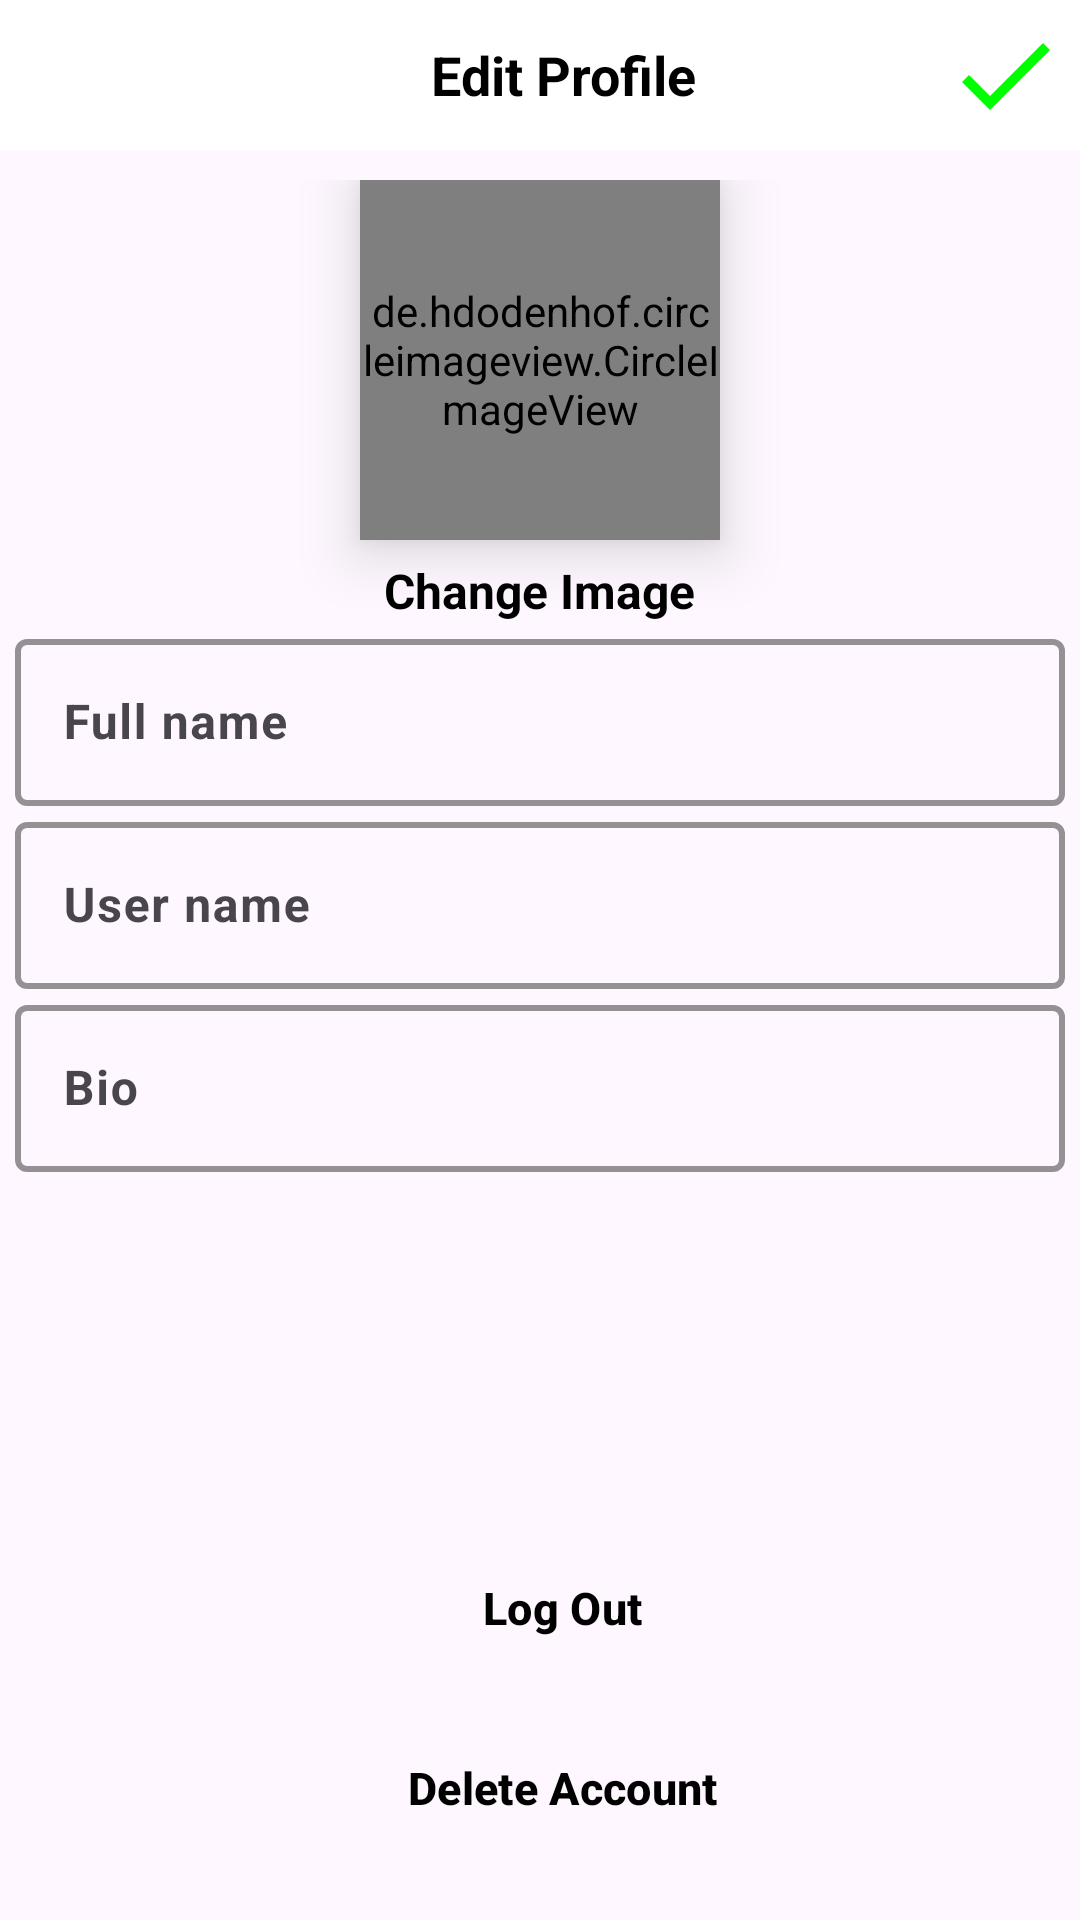

Icons on this 1080x1920 Android screen, each with the point to tap as point (x, y):
done: point (1006, 76)
